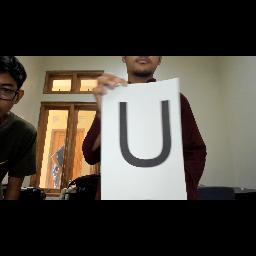u: (114, 98, 180, 168)
